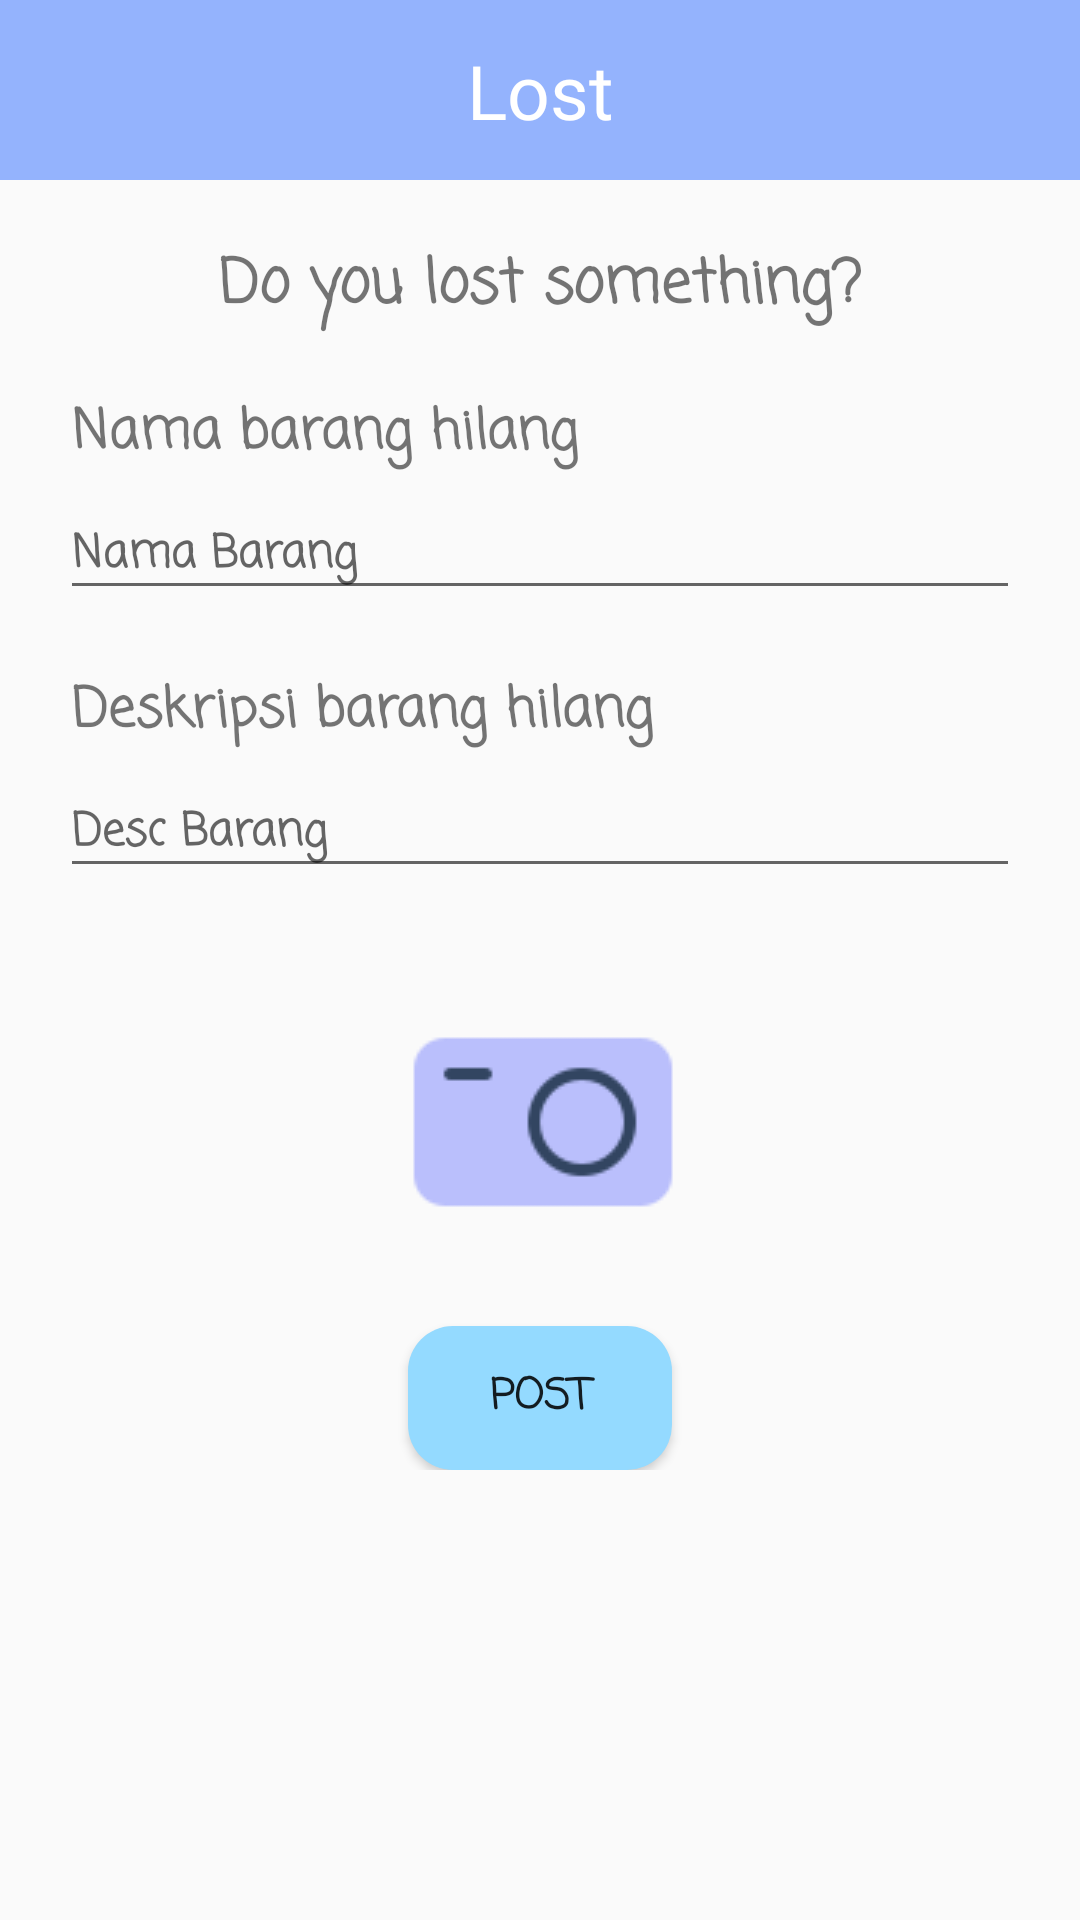

Where to tap for icons on this 1080*1920 app screen, as (x,y):
camera: (543,1122)
